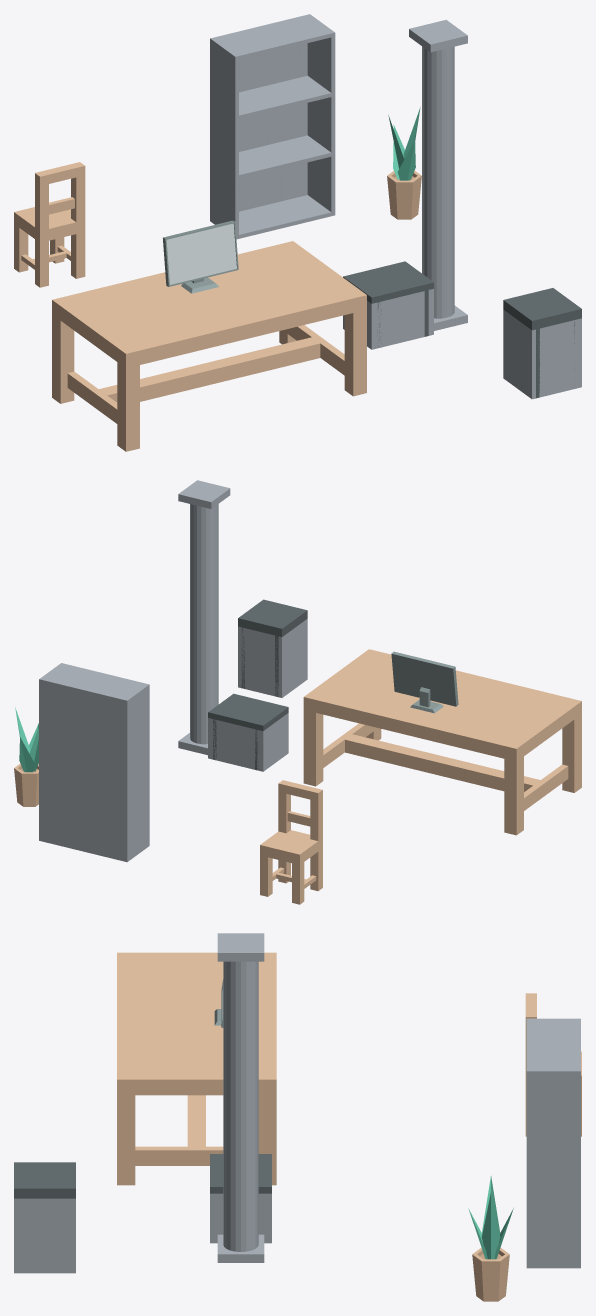
3 renders of one model, top to bottom at view 1: azimuth 30°, elevation 25°; view 2: azimuth 150°, elevation 25°; view 3: azimuth 270°, elevation 25°, orthographic. The views are drawn at different scales.
Visible parts, largest first — view 1: table_green__table(Clone), column_cyan__column_cyan shaft, shelf_orange__shelf_orange back, chair_cyan__chair(Clone), bin_gray__bin_gray shell, shelf_orange__shelf_orange side_l, shelf_orange__shelf_orange side_r, monitor_gray__computerScreen(Clone), crate_red__crate_red shell, shelf_orange__shelf_orange board3, shelf_orange__shelf_orange board0, shelf_orange__shelf_orange board1 (+6 smaller); view 2: table_green__table(Clone), shelf_orange__shelf_orange back, column_cyan__column_cyan shaft, chair_cyan__chair(Clone), shelf_orange__shelf_orange side_l, bin_gray__bin_gray shell, crate_red__crate_red shell, monitor_gray__computerScreen(Clone), crate_red__crate_red lid, shelf_orange__shelf_orange board3, bin_gray__bin_gray lid, column_cyan__column_cyan capital (+3 smaller); view 3: table_green__table(Clone), shelf_orange__shelf_orange side_r, column_cyan__column_cyan shaft, bin_gray__bin_gray shell, shelf_orange__shelf_orange board3, bin_gray__bin_gray lid, plant_pink__pottedPlant(Clone), column_cyan__column_cyan capital, crate_red__crate_red shell, plant_pink__plant, crate_red__crate_red lid, column_cyan__column_cyan plinth (+1 smaller).
Part boxes in pixels (left/top/right/bottom): table_green__table(Clone): left=52, top=241, right=366, bottom=451; column_cyan__column_cyan shaft: left=422, top=46, right=454, bottom=318; shelf_orange__shelf_orange back: left=214, top=15, right=307, bottom=211; chair_cyan__chair(Clone): left=14, top=162, right=85, bottom=287; bin_gray__bin_gray shell: left=503, top=309, right=581, bottom=399; shelf_orange__shelf_orange side_l: left=210, top=37, right=238, bottom=239; shelf_orange__shelf_orange side_r: left=306, top=14, right=335, bottom=216; monitor_gray__computerScreen(Clone): left=163, top=220, right=238, bottom=293; crate_red__crate_red shell: left=343, top=289, right=433, bottom=349; shelf_orange__shelf_orange board3: left=215, top=16, right=331, bottom=59; shelf_orange__shelf_orange board0: left=239, top=195, right=331, bottom=238; shelf_orange__shelf_orange board1: left=239, top=135, right=331, bottom=178; table_green__table(Clone): left=303, top=649, right=581, bottom=835; shelf_orange__shelf_orange back: left=42, top=679, right=124, bottom=861; column_cyan__column_cyan shaft: left=190, top=504, right=218, bottom=744; chair_cyan__chair(Clone): left=260, top=780, right=322, bottom=904; shelf_orange__shelf_orange side_l: left=124, top=683, right=149, bottom=862; bin_gray__bin_gray shell: left=238, top=619, right=307, bottom=697; crate_red__crate_red shell: left=208, top=713, right=288, bottom=771; monitor_gray__computerScreen(Clone): left=391, top=651, right=458, bottom=713; crate_red__crate_red lid: left=208, top=693, right=288, bottom=730; shelf_orange__shelf_orange board3: left=44, top=664, right=145, bottom=698; bin_gray__bin_gray lid: left=238, top=599, right=307, bottom=636; column_cyan__column_cyan capital: left=178, top=480, right=230, bottom=508; table_green__table(Clone): left=117, top=952, right=276, bottom=1185; shelf_orange__shelf_orange side_r: left=526, top=1069, right=580, bottom=1268; column_cyan__column_cyan shaft: left=223, top=961, right=258, bottom=1251; bin_gray__bin_gray shell: left=14, top=1198, right=75, bottom=1273; shelf_orange__shelf_orange board3: left=526, top=1020, right=577, bottom=1069; bin_gray__bin_gray lid: left=14, top=1162, right=75, bottom=1198; plant_pink__pottedPlant(Clone): left=472, top=1247, right=509, bottom=1301; column_cyan__column_cyan capital: left=217, top=933, right=264, bottom=961; crate_red__crate_red shell: left=210, top=1193, right=271, bottom=1243; plant_pink__plant: left=468, top=1176, right=513, bottom=1259; crate_red__crate_red lid: left=210, top=1154, right=271, bottom=1193; column_cyan__column_cyan plinth: left=217, top=1234, right=264, bottom=1262.
Bounding box in the file's own units: 3.75 × 2.2 × 3.66.
